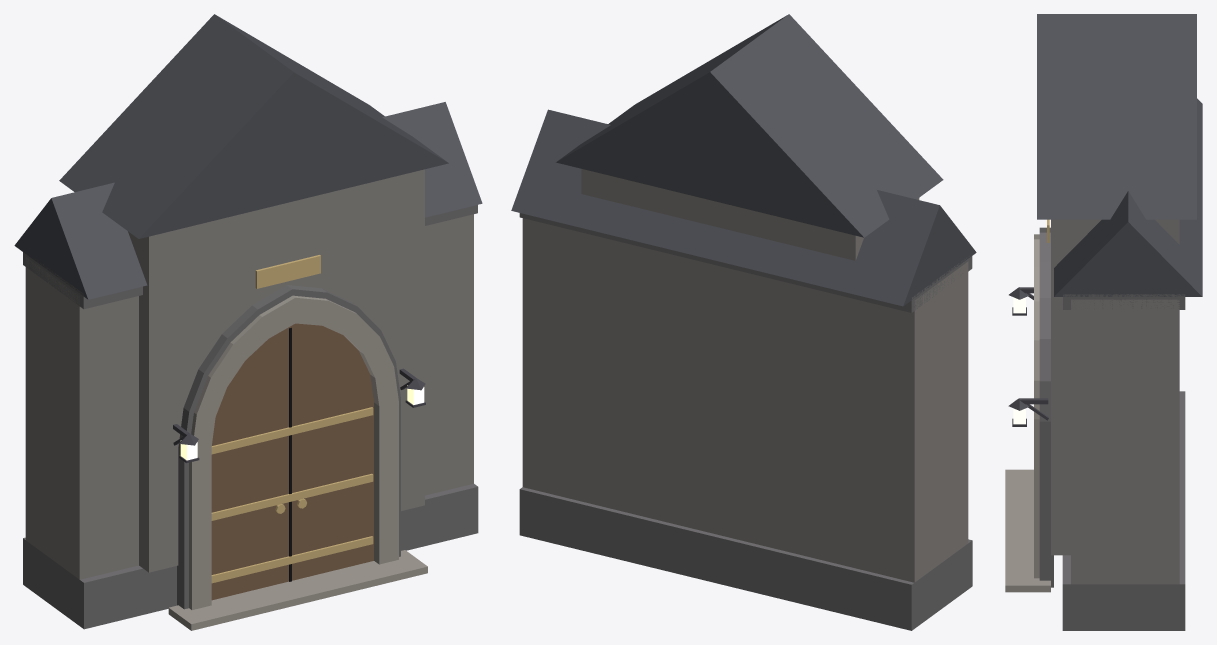
File: station_portal.glb
3 renders of one model, left to right at view 1: azimuth 30°, elevation 25°; view 2: azimuth 150°, elevation 25°; view 3: azimuth 270°, elevation 25°, orthographic.
Visible parts, largest first — view 1: Upper, Plinth; view 2: Upper, Plinth; view 3: Upper, Plinth.
Boxes of the visible parts, x1,y1,x2,y2 form: Upper: [14, 14, 482, 609]; Plinth: [23, 483, 478, 630]; Upper: [511, 14, 976, 582]; Plinth: [519, 487, 972, 630]; Upper: [1008, 14, 1202, 587]; Plinth: [1005, 391, 1185, 630].
Bounding box in the file's own units: 8 × 10.05 × 3.45.
